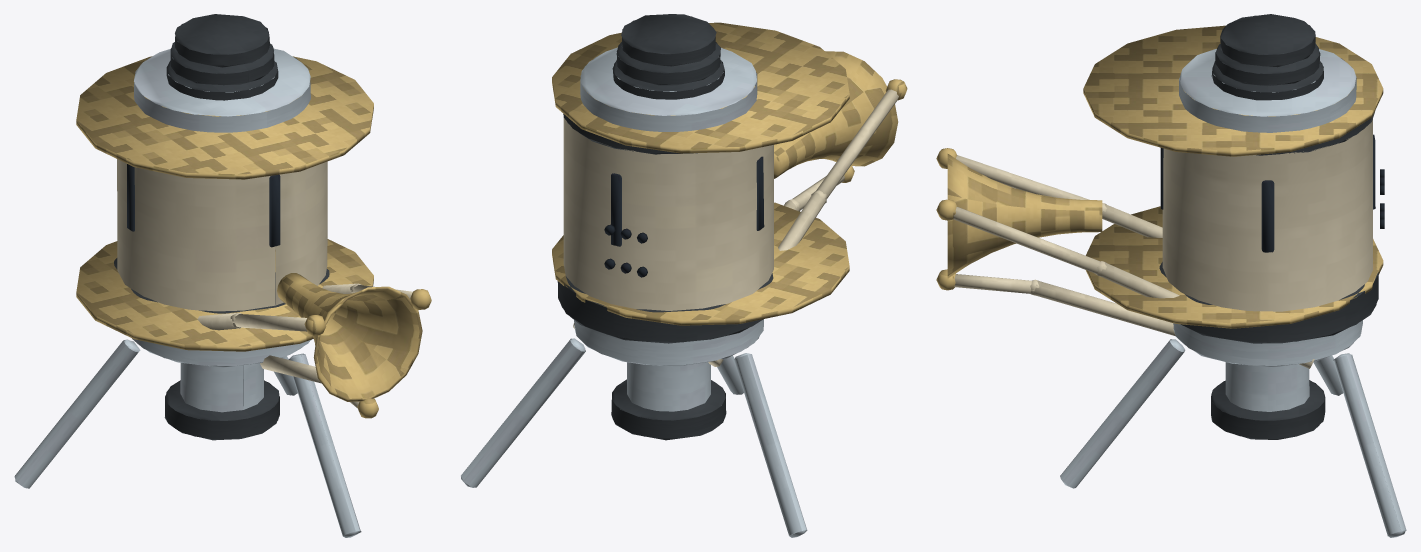
Rendered from claw_horn.glb.
The picture shows the model from 3 angles, left to right: view 1: azimuth 30°, elevation 25°; view 2: azimuth 150°, elevation 25°; view 3: azimuth 270°, elevation 25°; orthographic projection.
Visible parts, largest first — view 1: Hand, Jaw2, Jaw0, Jaw1; view 2: Hand, Jaw2, Jaw0; view 3: Hand, Jaw1, Jaw0, Jaw2.
Boxes of the visible parts, bbox=[...] form: Hand: bbox=[14, 14, 422, 537]; Jaw2: bbox=[197, 312, 326, 335]; Jaw0: bbox=[260, 355, 378, 418]; Jaw1: bbox=[322, 283, 431, 309]; Hand: bbox=[461, 14, 898, 537]; Jaw2: bbox=[708, 79, 907, 366]; Jaw0: bbox=[784, 166, 854, 211]; Hand: bbox=[947, 14, 1406, 537]; Jaw1: bbox=[936, 199, 1314, 368]; Jaw0: bbox=[936, 269, 1175, 335]; Jaw2: bbox=[936, 148, 1162, 237].
Size of the model in its own units: 0.7756 by 1.04 by 1.
5 materials, 5 textured.
